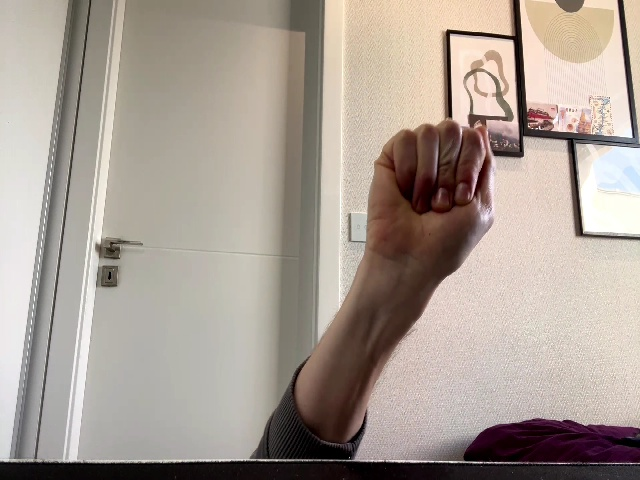A: (366, 119, 494, 279)
